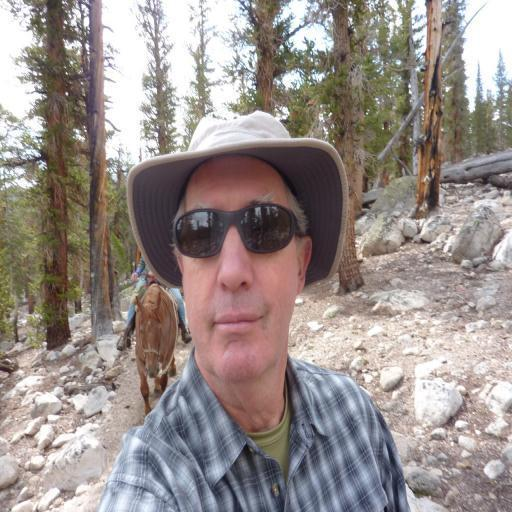horse: (136, 282, 178, 418)
